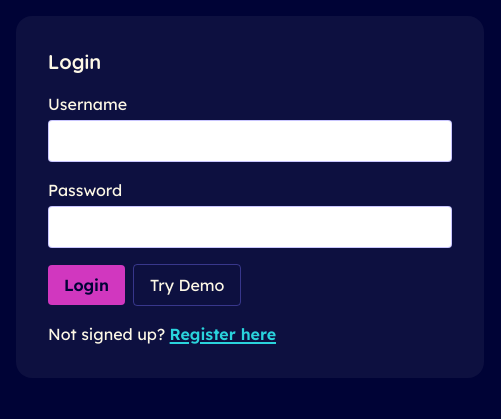
Test case: Login › shows an error message and does not log in when login() resolves null
Type "ash" into the field labelled "Username" at (250, 141), box x1=48 y1=120 x2=452 y2=162
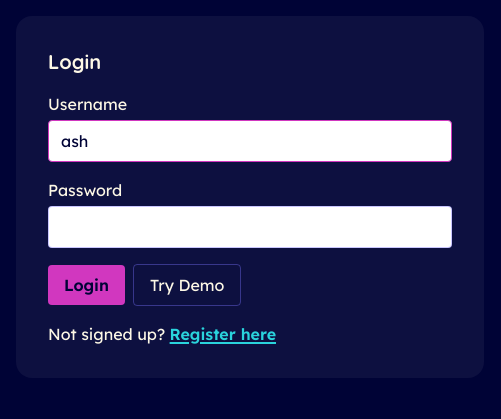
Type "wrong" into the password field labelled "Password" at (250, 227), box x1=48 y1=206 x2=452 y2=248
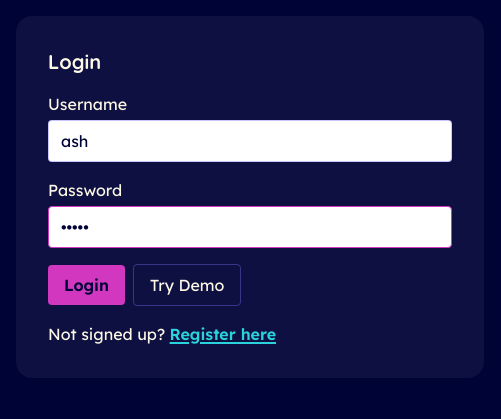
Click the button "Login" at (86, 285), box x1=48 y1=265 x2=125 y2=305
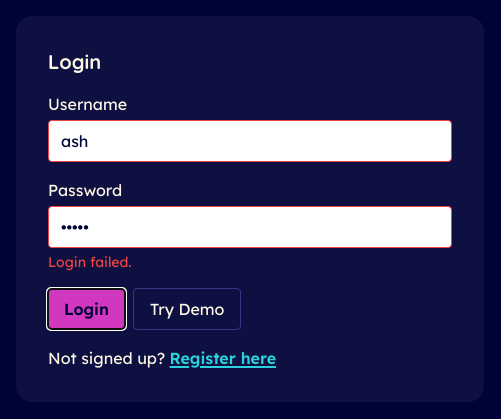
Check: the message reads "Login failed.", box x1=48 y1=253 x2=132 y2=271
